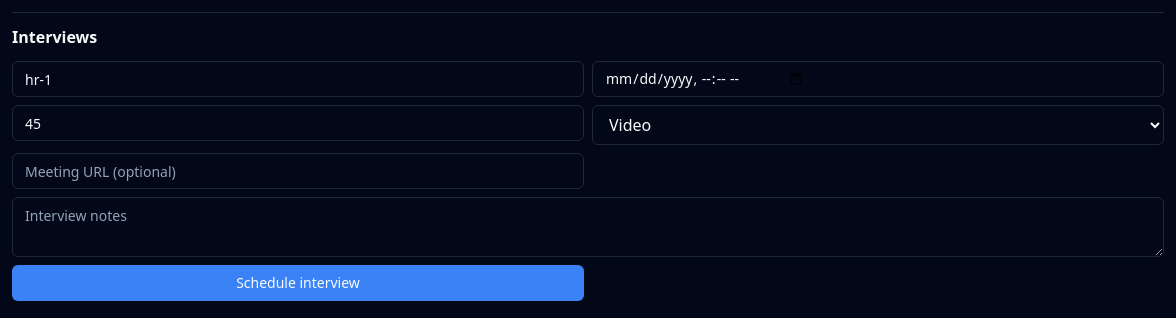
Test case: InterviewPanel › schedules an interview and shows its round after refresh
Expected: the button "Schedule interview" is shown, [12, 265, 584, 301]
Type "2030-01-15T11:00" into the field named "Interview date and time" at (878, 79), box [592, 61, 1164, 97]
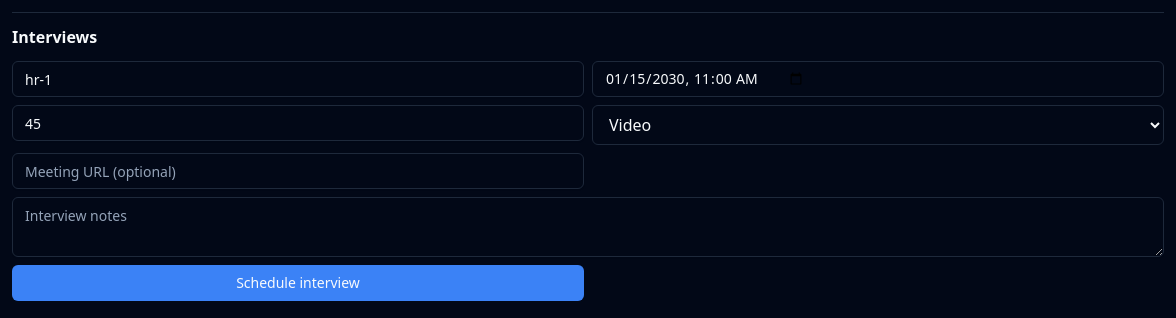
Click the button "Schedule interview" at (298, 283), box [12, 265, 584, 301]
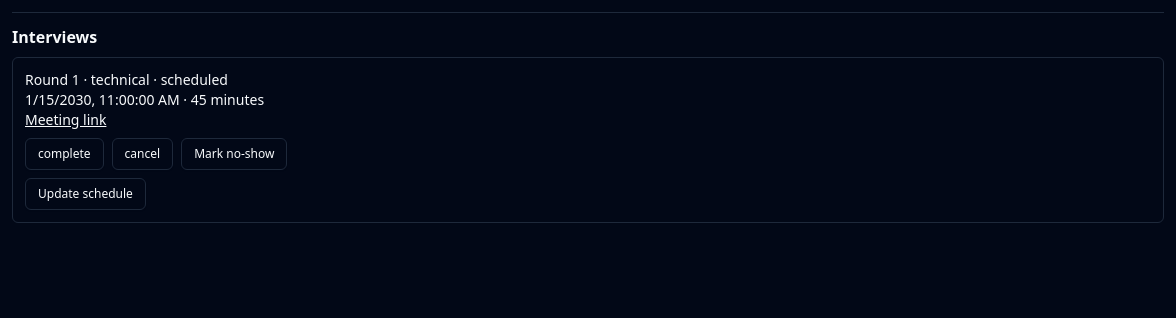
Expected: the text "Round 1 · technical · scheduled" is shown, [25, 70, 228, 89]
